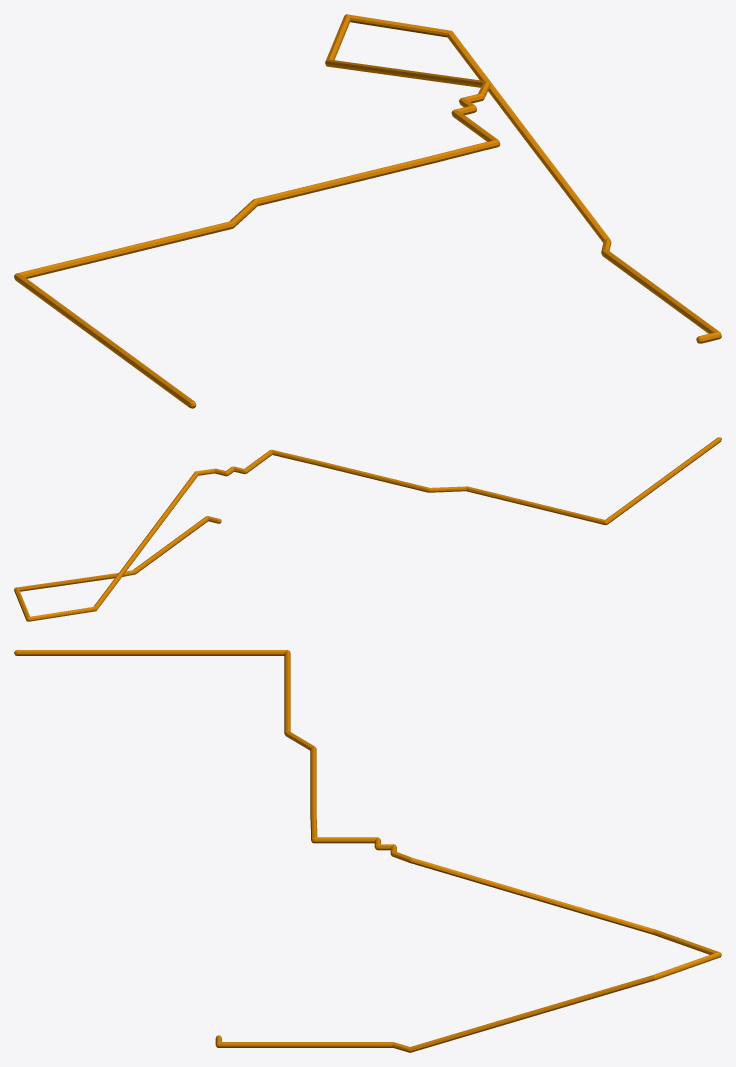
The picture shows the model from 3 angles, top to bottom: view 1: azimuth 30°, elevation 25°; view 2: azimuth 150°, elevation 25°; view 3: azimuth 270°, elevation 25°; orthographic projection. The views are drawn at different scales.
Bounding box in the file's own units: 1901 × 520 × 2226.
